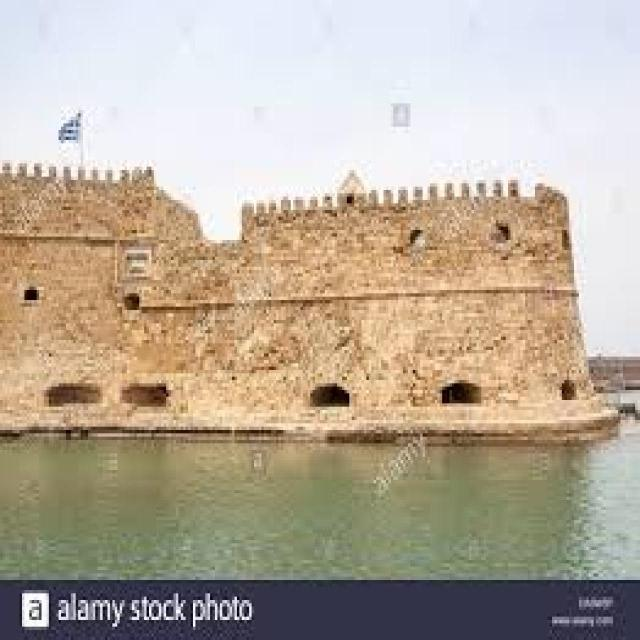Kules: (2, 157, 619, 443)
